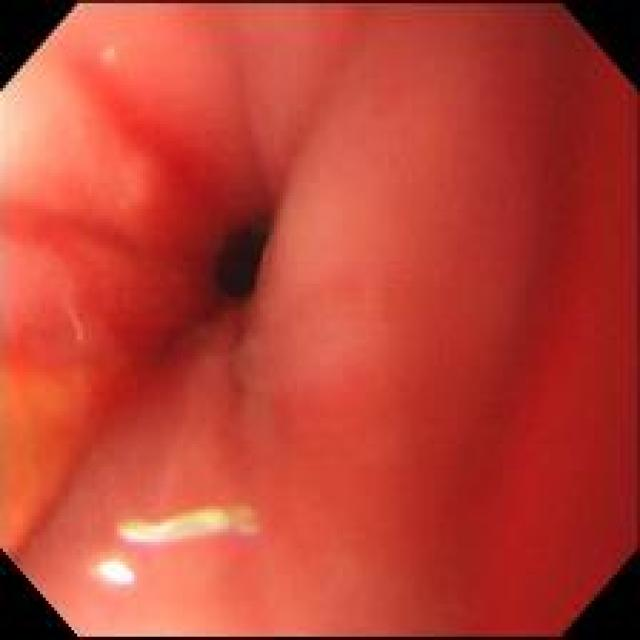color misalignment: (123, 506, 263, 546)
contrast: (195, 188, 286, 329)
instrument: (1, 356, 150, 557)
specularity: (102, 556, 134, 584)
